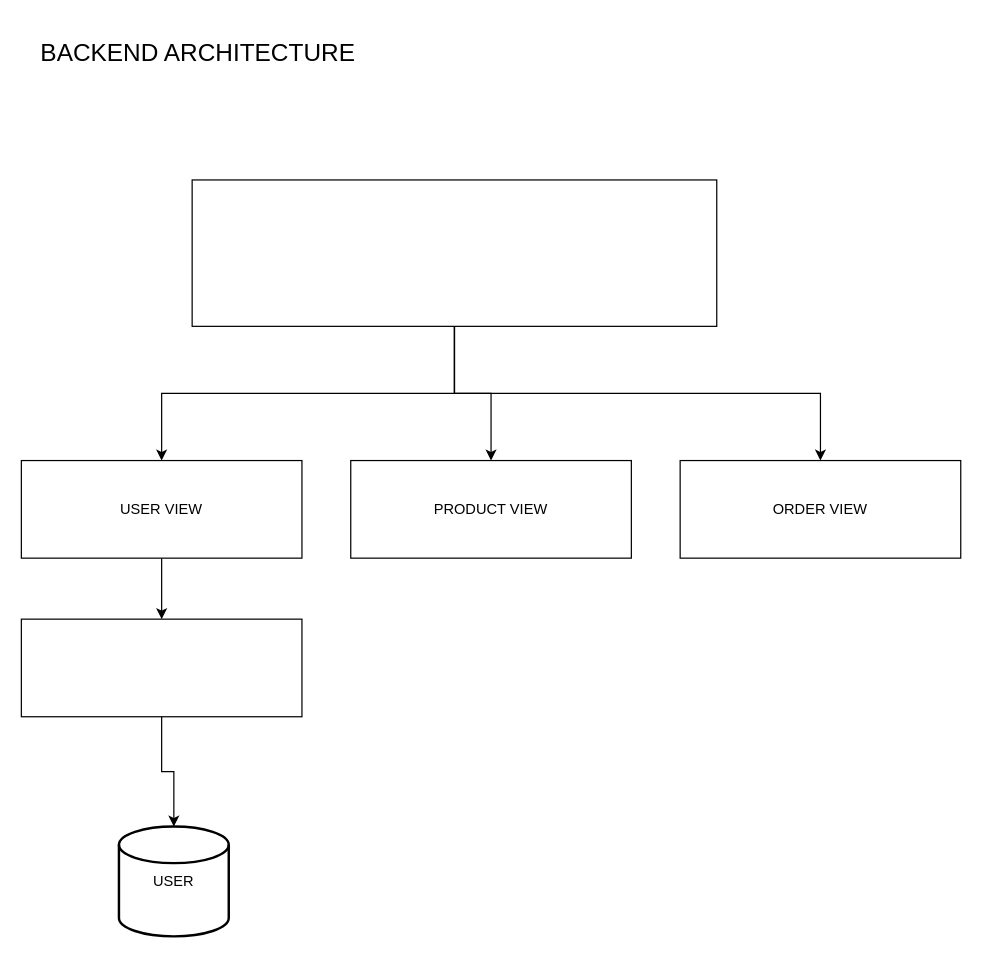
The diagram is 982 pixels wide and 958 high, and some of its shapes have lost their labels. The shapes that lost their labels are listed below. From the top down, each one's centre as x and y in pixels, then its label:
point (454, 252): URL HANDLER
point (161, 667): USER ORM
